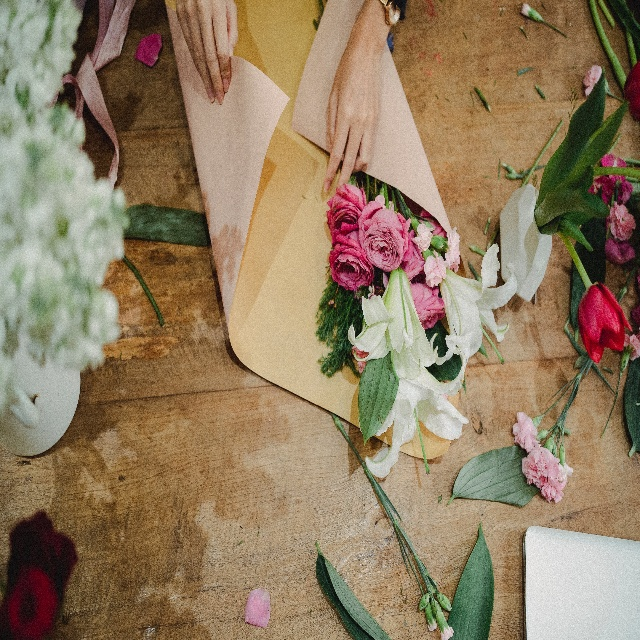Sin_guantes: (319, 0, 392, 198), (175, 0, 239, 105)
